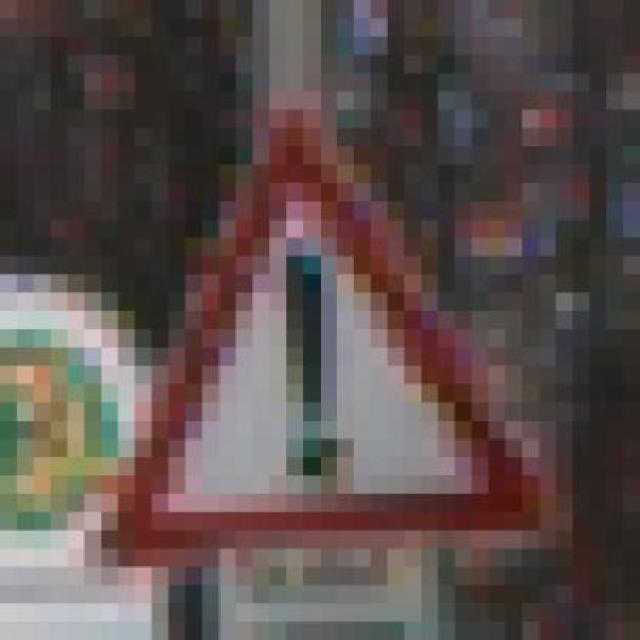Attention Please-: (67, 73, 573, 585)
